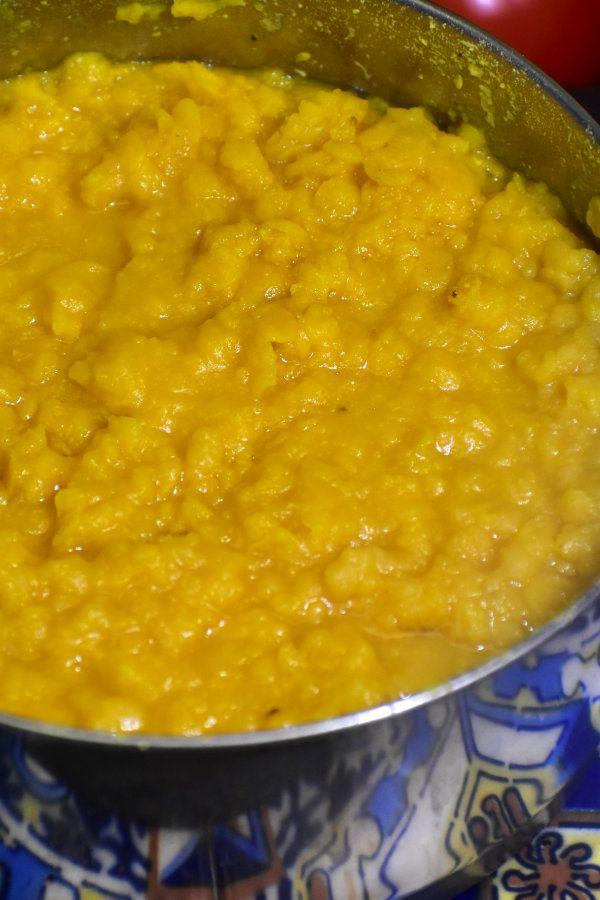daal: (0, 52, 589, 748)
